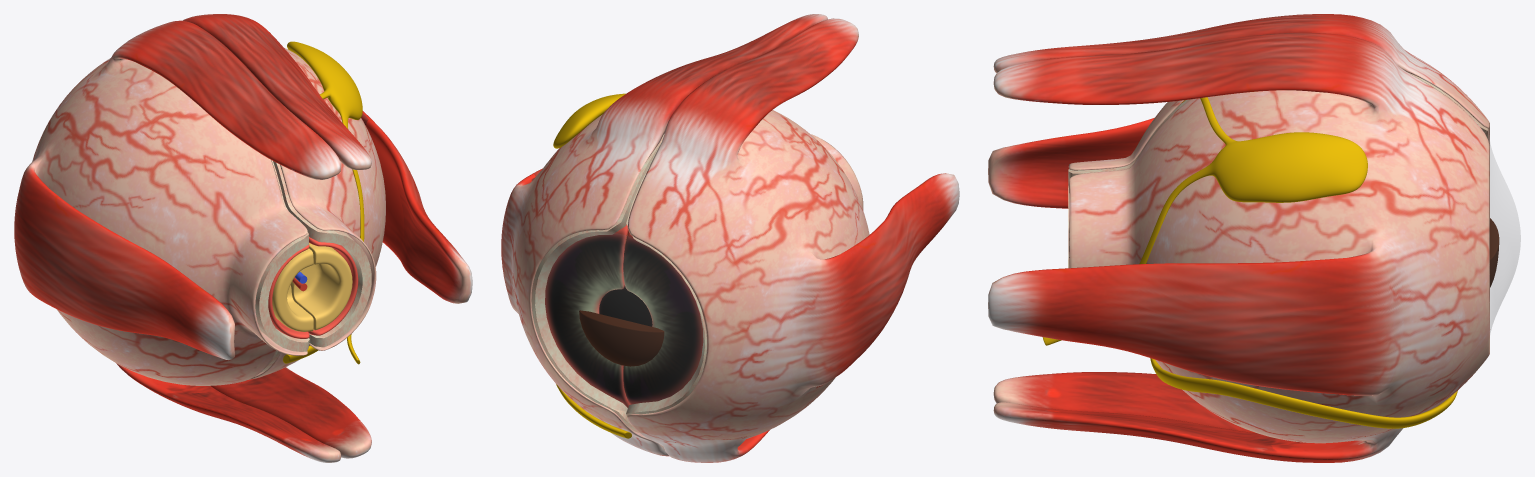
Rendered from OJO_Glaucoma.fbx.
The picture shows the model from 3 angles, left to right: view 1: azimuth 30°, elevation 25°; view 2: azimuth 150°, elevation 25°; view 3: azimuth 270°, elevation 25°; orthographic projection. The views are drawn at different scales.
Visible parts, largest first — view 1: capa1_izquierda, capa1_derecha, capa4_derecha, lagrimal, capa2_derecha, capa2_izquierda, capa4_izquierda, capa3_derecha, capa3_izquierda; view 2: capa1_izquierda, retina, capa1_derecha, capa3_derecha, capa3_izquierda, capa2_derecha, liquido, lagrimal, capa2_izquierda, pupila; view 3: capa1_derecha, capa1_izquierda, lagrimal, retina, capa2_izquierda.
Boxes of the visible parts, bbox=[...] form: capa1_izquierda: bbox=[14, 20, 340, 462]; capa1_derecha: bbox=[183, 14, 472, 458]; capa4_derecha: bbox=[290, 243, 352, 330]; lagrimal: bbox=[283, 41, 364, 364]; capa2_derecha: bbox=[260, 161, 371, 372]; capa2_izquierda: bbox=[255, 160, 309, 351]; capa4_izquierda: bbox=[272, 248, 313, 331]; capa3_derecha: bbox=[308, 237, 358, 335]; capa3_izquierda: bbox=[268, 244, 309, 338]; capa1_izquierda: bbox=[627, 18, 959, 462]; retina: bbox=[536, 232, 703, 411]; capa1_derecha: bbox=[501, 14, 827, 456]; capa3_derecha: bbox=[545, 224, 629, 407]; capa3_izquierda: bbox=[623, 231, 703, 404]; capa2_derecha: bbox=[531, 134, 664, 432]; liquido: bbox=[579, 310, 664, 366]; lagrimal: bbox=[553, 93, 631, 438]; capa2_izquierda: bbox=[626, 166, 706, 417]; pupila: bbox=[599, 272, 652, 326]; capa1_derecha: bbox=[988, 32, 1490, 462]; capa1_izquierda: bbox=[988, 14, 1489, 433]; lagrimal: bbox=[1042, 97, 1457, 428]; retina: bbox=[1489, 137, 1520, 332]; capa2_izquierda: bbox=[1068, 72, 1487, 267].
Bounding box in the file's own units: 223 × 224 × 259.
12 materials, 7 textured.
